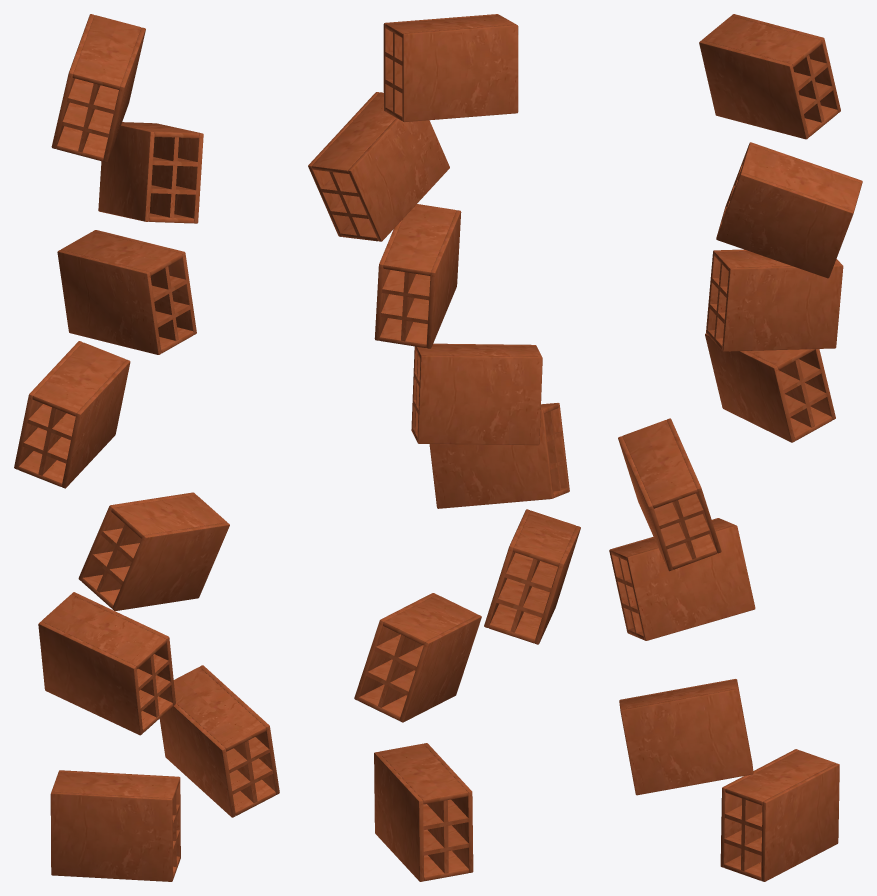
The model's file is ALV-BLC-001_anim.glb.
The picture shows the model from 3 angles, left to right: view 1: azimuth 30°, elevation 25°; view 2: azimuth 150°, elevation 25°; view 3: azimuth 270°, elevation 25°; orthographic projection. The views are drawn at different scales.
Parts seen in each view (by area): view 1: ALV-BLC-001_anim0, ALV-BLC-001_anim2, ALV-BLC-001_anim5, ALV-BLC-001_anim3, ALV-BLC-001_anim1, ALV-BLC-001_anim4, ALV-BLC-001_anim6, ALV-BLC-001_anim7; view 2: ALV-BLC-001_anim7, ALV-BLC-001_anim4, ALV-BLC-001_anim6, ALV-BLC-001_anim0, ALV-BLC-001_anim1, ALV-BLC-001_anim5, ALV-BLC-001_anim3, ALV-BLC-001_anim2; view 3: ALV-BLC-001_anim7, ALV-BLC-001_anim6, ALV-BLC-001_anim0, ALV-BLC-001_anim1, ALV-BLC-001_anim5, ALV-BLC-001_anim2, ALV-BLC-001_anim4, ALV-BLC-001_anim3.
Boxes of the visible parts, box(x1,y1,x2,y2) form: ALV-BLC-001_anim0: box(50, 770, 180, 881); ALV-BLC-001_anim2: box(38, 592, 175, 735); ALV-BLC-001_anim5: box(57, 230, 196, 354); ALV-BLC-001_anim3: box(78, 492, 229, 610); ALV-BLC-001_anim1: box(159, 665, 279, 817); ALV-BLC-001_anim4: box(14, 341, 130, 488); ALV-BLC-001_anim6: box(98, 122, 203, 223); ALV-BLC-001_anim7: box(51, 14, 145, 162); ALV-BLC-001_anim7: box(383, 14, 518, 122); ALV-BLC-001_anim4: box(411, 343, 542, 445); ALV-BLC-001_anim6: box(308, 92, 449, 241); ALV-BLC-001_anim0: box(374, 743, 473, 881); ALV-BLC-001_anim1: box(354, 593, 481, 722); ALV-BLC-001_anim5: box(374, 204, 461, 348); ALV-BLC-001_anim3: box(429, 403, 569, 508); ALV-BLC-001_anim2: box(484, 509, 580, 644); ALV-BLC-001_anim7: box(699, 14, 840, 139); ALV-BLC-001_anim6: box(716, 142, 862, 278); ALV-BLC-001_anim0: box(720, 749, 839, 881); ALV-BLC-001_anim1: box(619, 679, 753, 795); ALV-BLC-001_anim5: box(706, 249, 843, 351); ALV-BLC-001_anim2: box(609, 518, 755, 640); ALV-BLC-001_anim4: box(705, 333, 835, 442); ALV-BLC-001_anim3: box(618, 418, 721, 571).
Bounding box in the file's own units: 0.3557 × 1.43 × 0.4018.
Materials: 1 (1 with a texture image).
